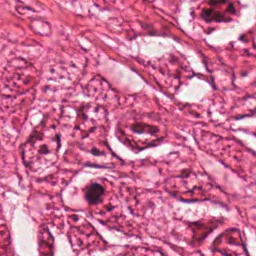mitosis: (69, 170, 79, 180)
